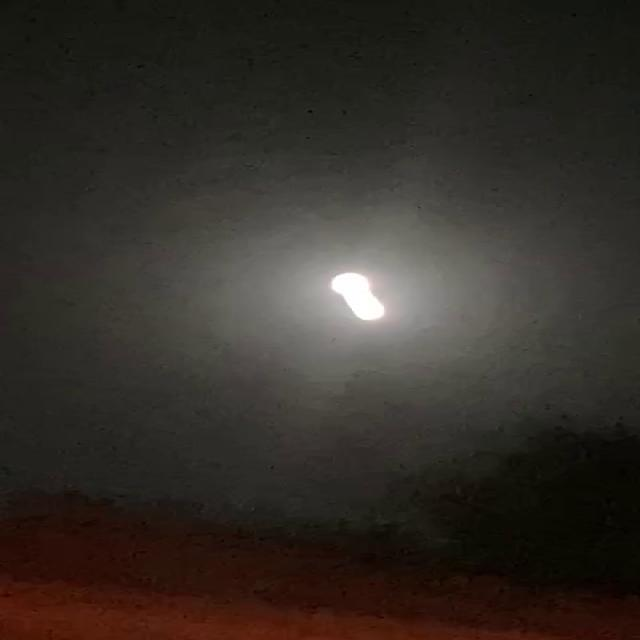moon: (313, 274, 384, 323)
